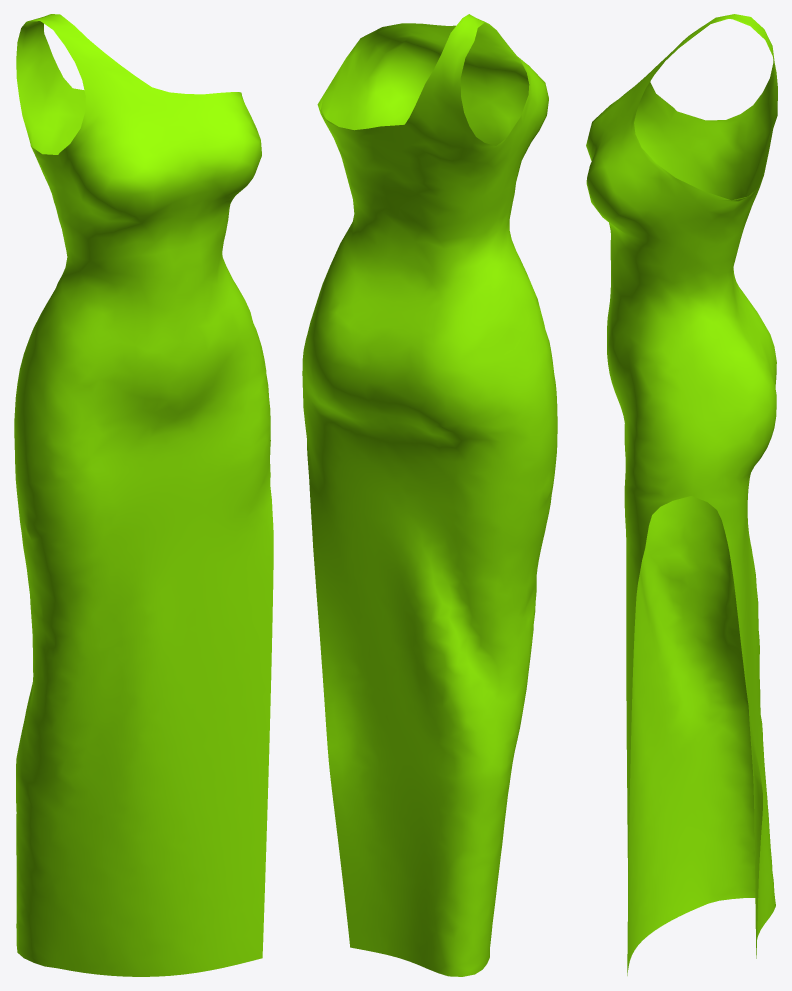
The model's file is free_evening_dress.glb.
3 renders of one model, left to right at view 1: azimuth 30°, elevation 25°; view 2: azimuth 150°, elevation 25°; view 3: azimuth 270°, elevation 25°, orthographic. The views are drawn at different scales.
Parts seen in each view (by area): view 1: Object_2; view 2: Object_2; view 3: Object_2.
Part boxes in pixels (x1=…): Object_2: x1=14, y1=14, x2=273, y2=976; Object_2: x1=302, y1=14, x2=557, y2=976; Object_2: x1=586, y1=14, x2=777, y2=975.
Bounding box in the file's own units: 369 × 1403 × 272.
